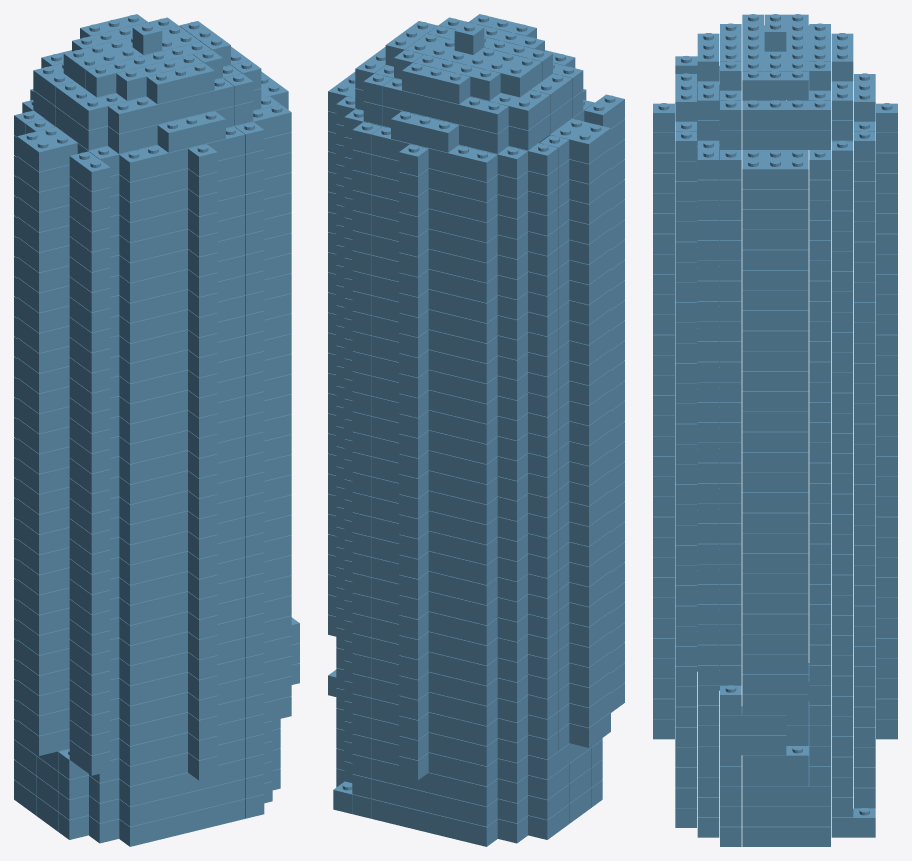
File: 134_camera_L4.glb
3 views of the same model, side by side, from view 1: azimuth 30°, elevation 25°; view 2: azimuth 150°, elevation 25°; view 3: azimuth 270°, elevation 25° (orthographic).
Bounding box in the file's own units: 12.98 × 38.13 × 10.98.
